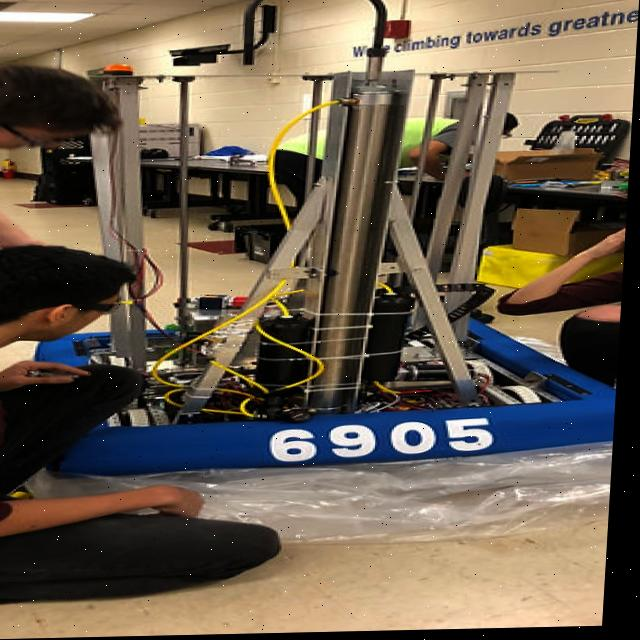robot: (32, 52, 637, 479)
